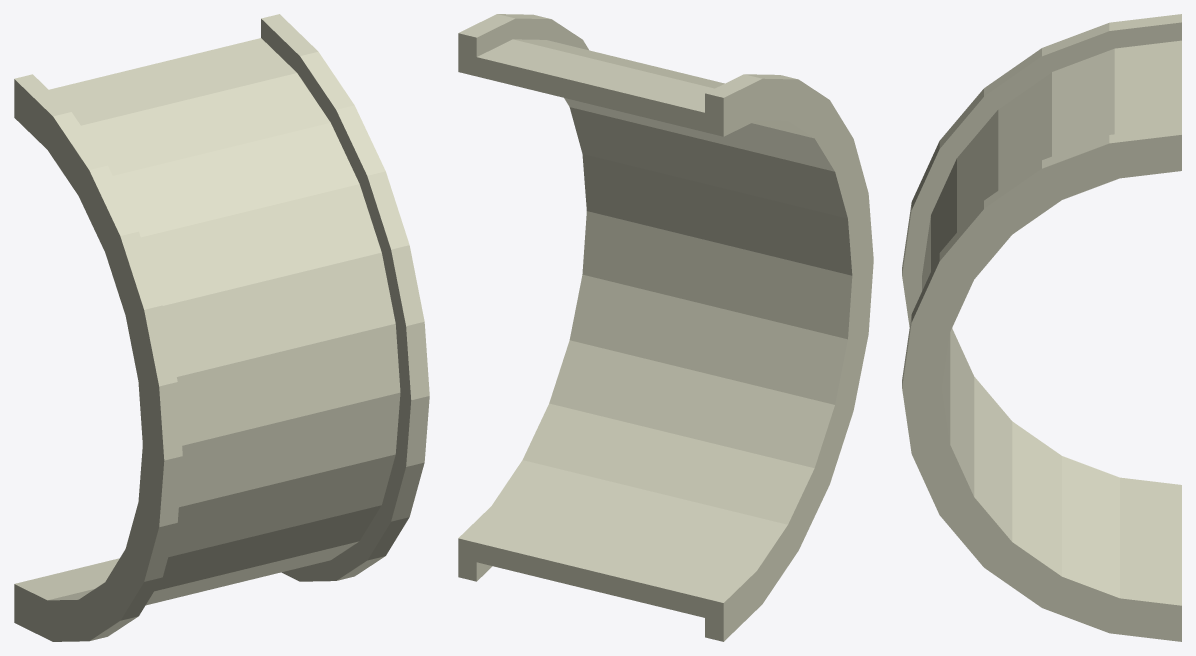
Rendered from section_032.obj.
3 views of the same model, side by side, from view 1: azimuth 30°, elevation 25°; view 2: azimuth 150°, elevation 25°; view 3: azimuth 270°, elevation 25° (orthographic). The views are drawn at different scales.
Size of the model in its own units: 14.3 by 28 by 14.
